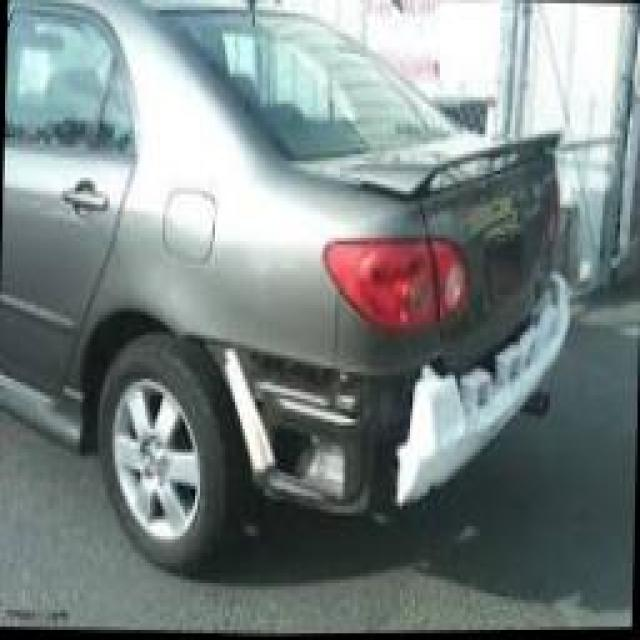Bumper: (195, 325, 585, 529)
